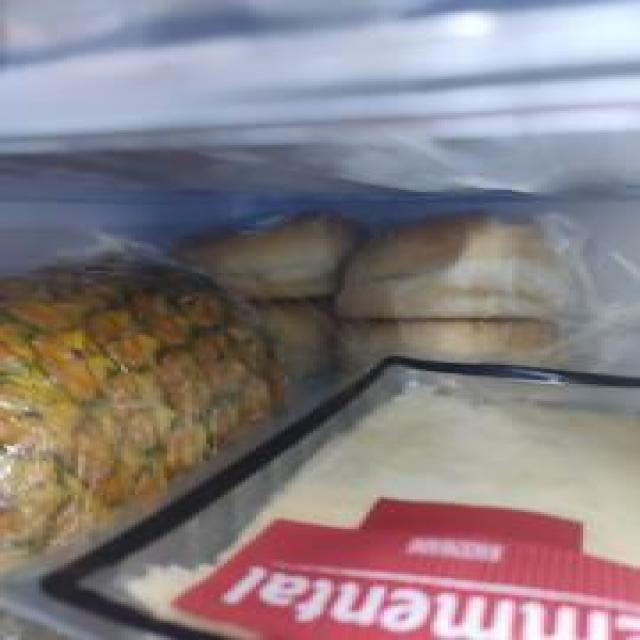cheese: (0, 354, 640, 640)
pineapple: (0, 245, 295, 640)
